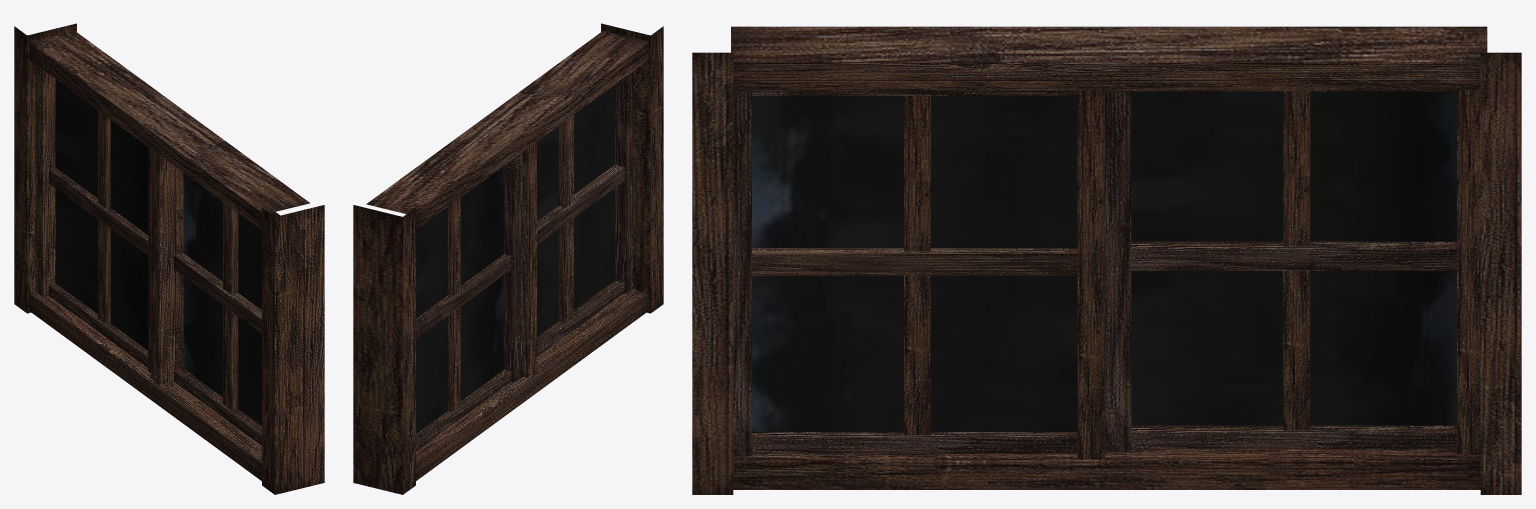
Rendered from caen_window_brown_clean_2.glb.
3 renders of one model, left to right at view 1: azimuth 30°, elevation 25°; view 2: azimuth 150°, elevation 25°; view 3: azimuth 270°, elevation 25°, orthographic. The views are drawn at different scales.
Bounding box in the file's own units: 7.98 × 42.72 × 72.59.
Materials: 1 (1 with a texture image).
